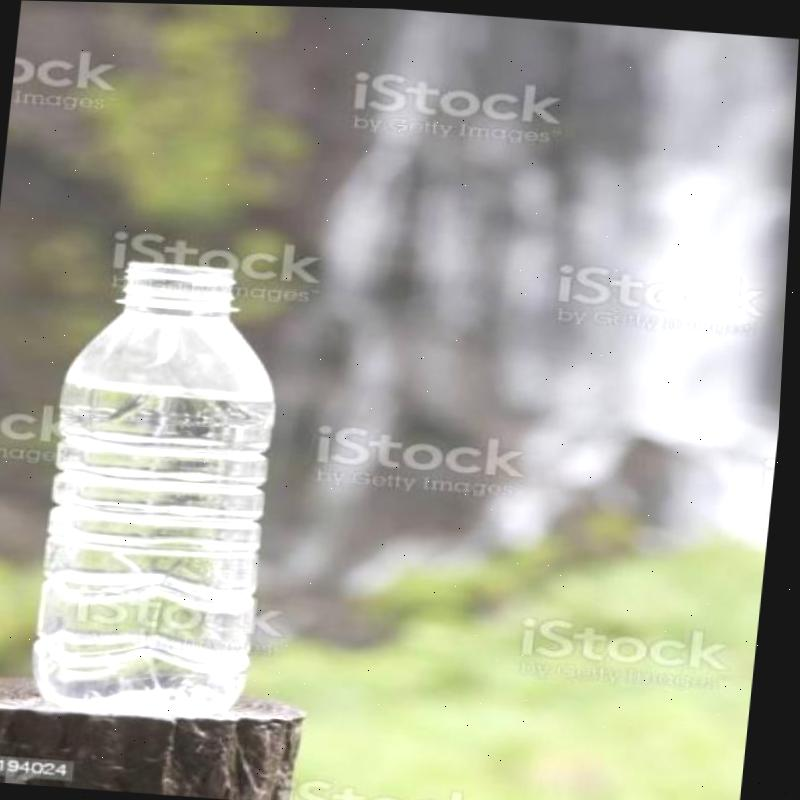botella: (30, 254, 296, 719)
